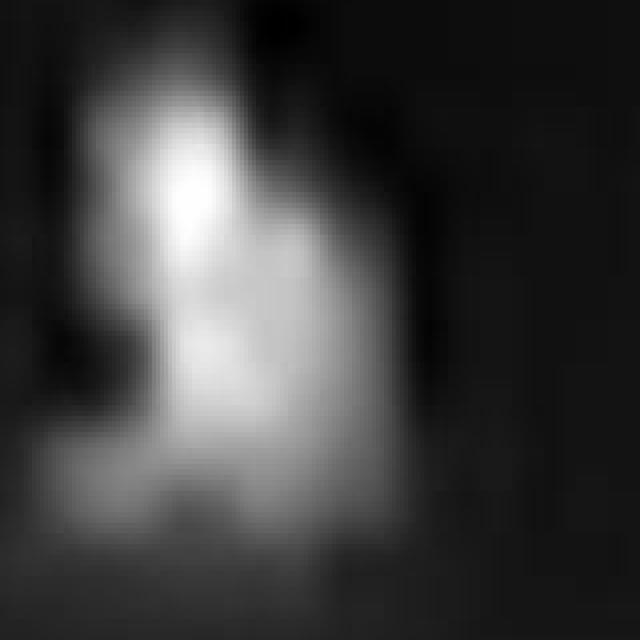person: (66, 44, 412, 616)
